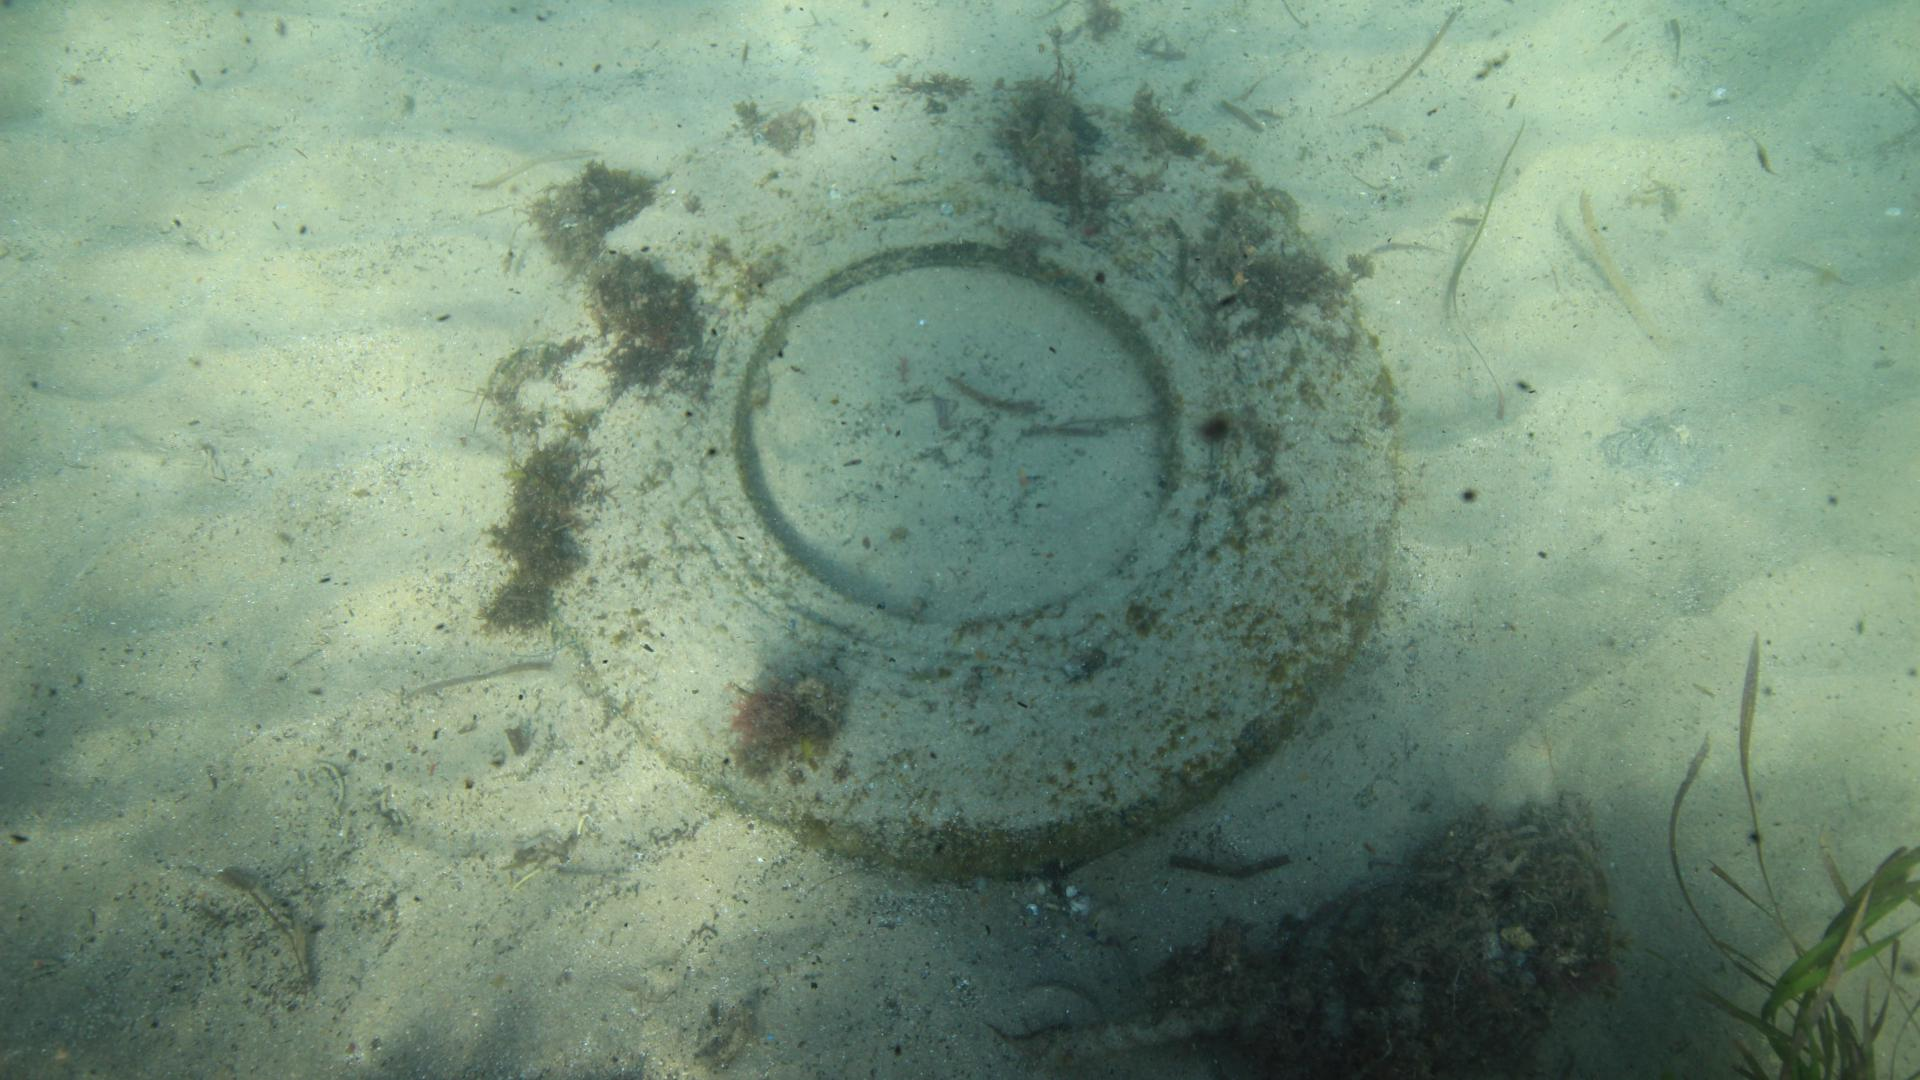tire: (509, 80, 1395, 876)
